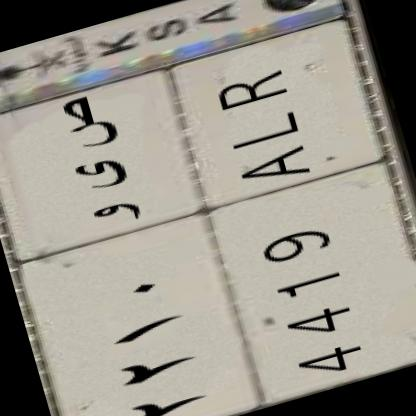english: (157, 6, 416, 410)
